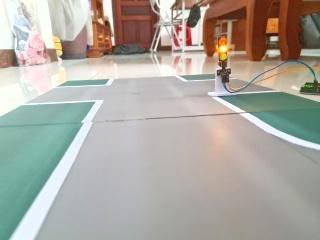yellow: (210, 28, 241, 69)
